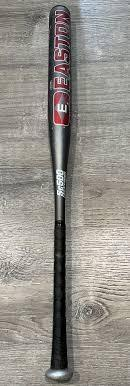Baseball-Bat: (46, 5, 72, 380)
